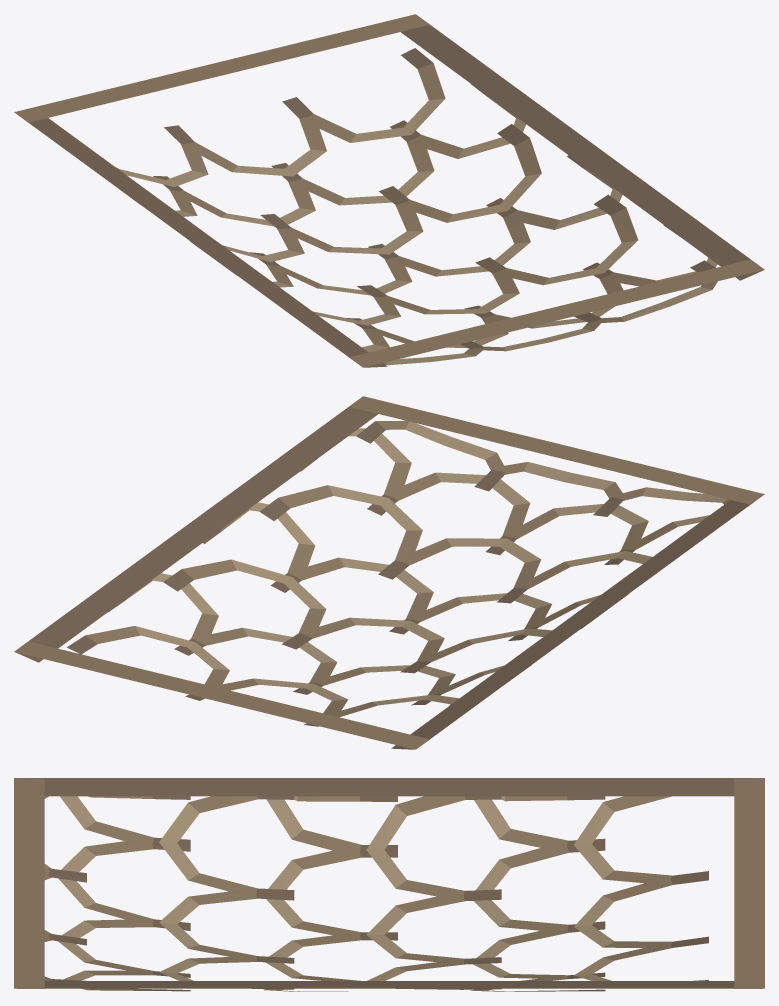
File: fishing_net.glb
3 renders of one model, top to bottom at view 1: azimuth 30°, elevation 25°; view 2: azimuth 150°, elevation 25°; view 3: azimuth 270°, elevation 25°, orthographic. The views are drawn at different scales.
Parts seen in each view (by area): view 1: SmallFishingNet; view 2: SmallFishingNet; view 3: SmallFishingNet.
Part boxes in pixels (x1,y1,x2,y2): SmallFishingNet: (14,14,764,367); SmallFishingNet: (14,396,764,749); SmallFishingNet: (14,778,764,991).
Bounding box in the file's own units: 0.356 × 0.0464 × 0.536.
